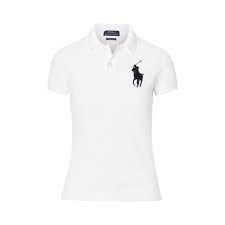S_polo shirt: (47, 29, 185, 205)
